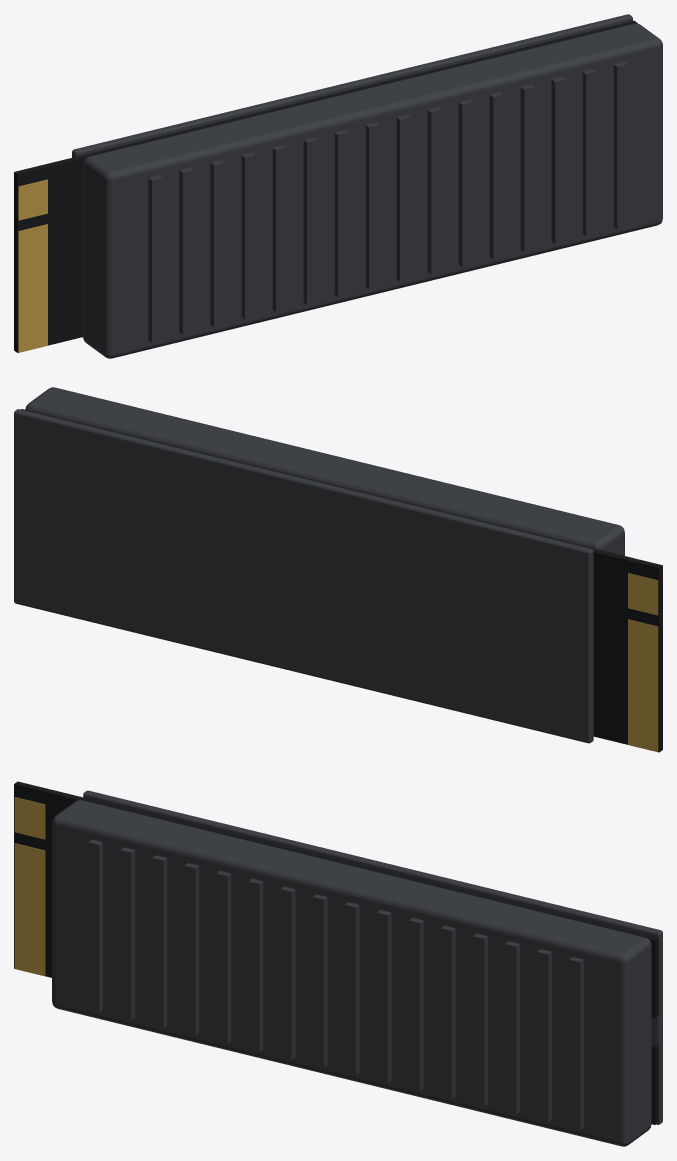
The picture shows the model from 3 angles, top to bottom: view 1: azimuth 30°, elevation 25°; view 2: azimuth 150°, elevation 25°; view 3: azimuth 330°, elevation 25°; orthographic projection. The views are drawn at different scales.
Parts seen in each view (by area): view 1: SSD_Heatsink_Cover, SSD_Heatsink_Fins, SSD_PCB, SSD_Heatsink_Base, SSD_Connector; view 2: SSD_Heatsink_Base, SSD_Heatsink_Cover, SSD_PCB, SSD_Connector; view 3: SSD_Heatsink_Cover, SSD_Heatsink_Fins, SSD_PCB, SSD_Heatsink_Base, SSD_Connector.
Boxes of the visible parts, left/top/right/bottom form: SSD_Heatsink_Cover: left=83, top=23, right=662, bottom=358; SSD_Heatsink_Fins: left=148, top=61, right=627, bottom=342; SSD_PCB: left=14, top=20, right=637, bottom=352; SSD_Heatsink_Base: left=72, top=14, right=632, bottom=157; SSD_Connector: left=18, top=179, right=47, bottom=352; SSD_Heatsink_Base: left=14, top=409, right=593, bottom=743; SSD_Heatsink_Cover: left=25, top=387, right=624, bottom=555; SSD_PCB: left=21, top=409, right=662, bottom=752; SSD_Connector: left=628, top=573, right=658, bottom=752; SSD_Heatsink_Cover: left=52, top=800, right=651, bottom=1146; SSD_Heatsink_Fins: left=88, top=839, right=583, bottom=1129; SSD_PCB: left=14, top=781, right=658, bottom=1124; SSD_Heatsink_Base: left=83, top=790, right=662, bottom=1124; SSD_Connector: left=14, top=797, right=45, bottom=976.
Size of the model in its own units: 0.08 by 0.023 by 0.0089.
